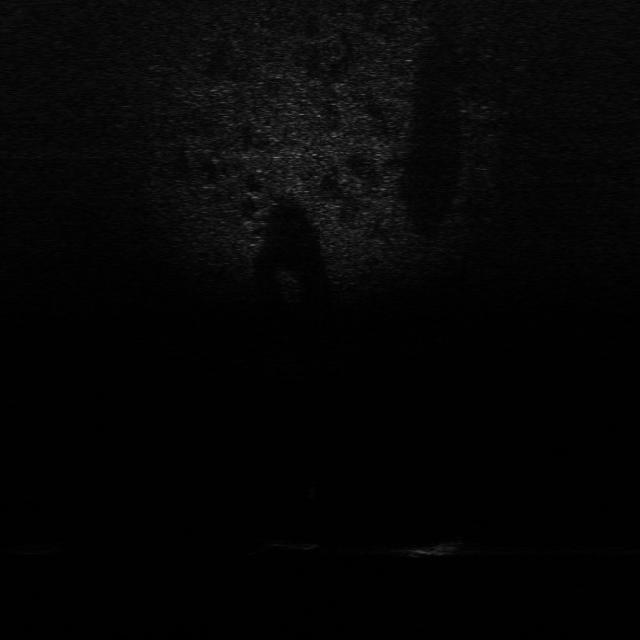metal bucket: (371, 535, 472, 563)
tyre: (259, 535, 323, 557)
